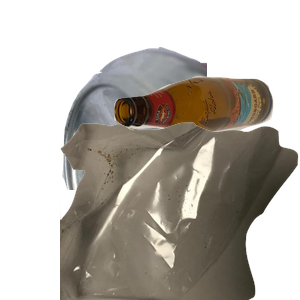glass: (111, 74, 300, 204)
metal: (60, 44, 300, 224)
plastic: (92, 176, 257, 300)
trash: (60, 120, 300, 300)
